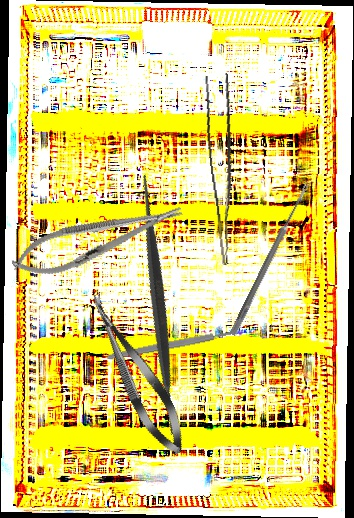Micro Scissor: (78, 286, 195, 462)
Needle Holder: (6, 191, 189, 287)
Scalpel Handle: (106, 328, 237, 362)
Spatula Surgical: (15, 162, 301, 448)
Surgical Spoon: (229, 179, 312, 337)
Tissue Forceps: (199, 73, 251, 265)
